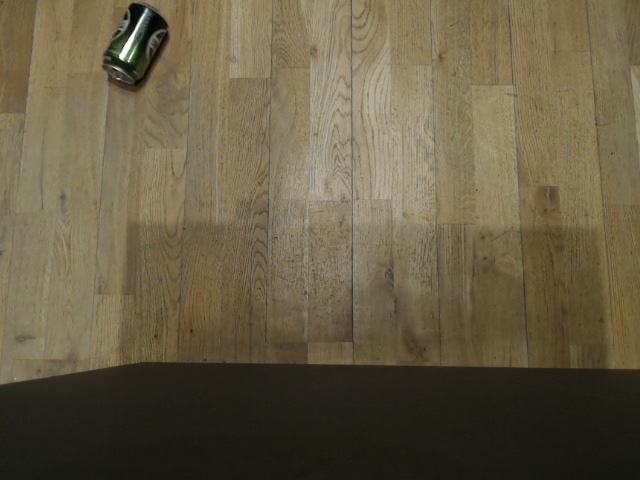beer: (97, 1, 170, 89)
